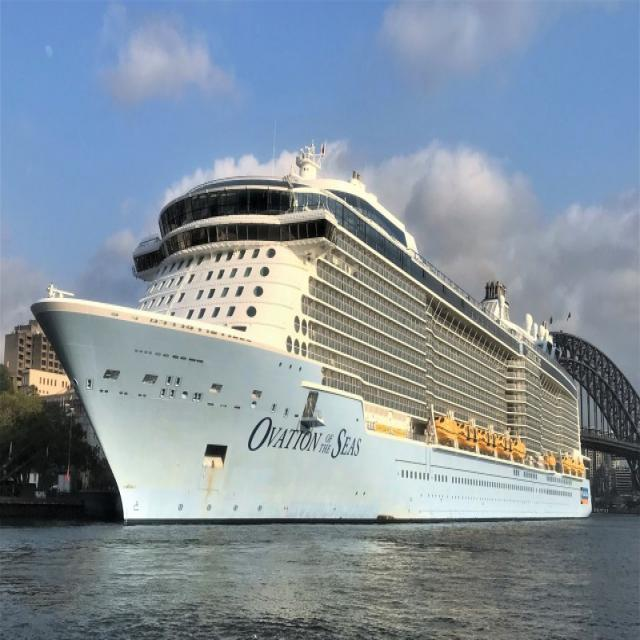cruises: (26, 140, 597, 537)
